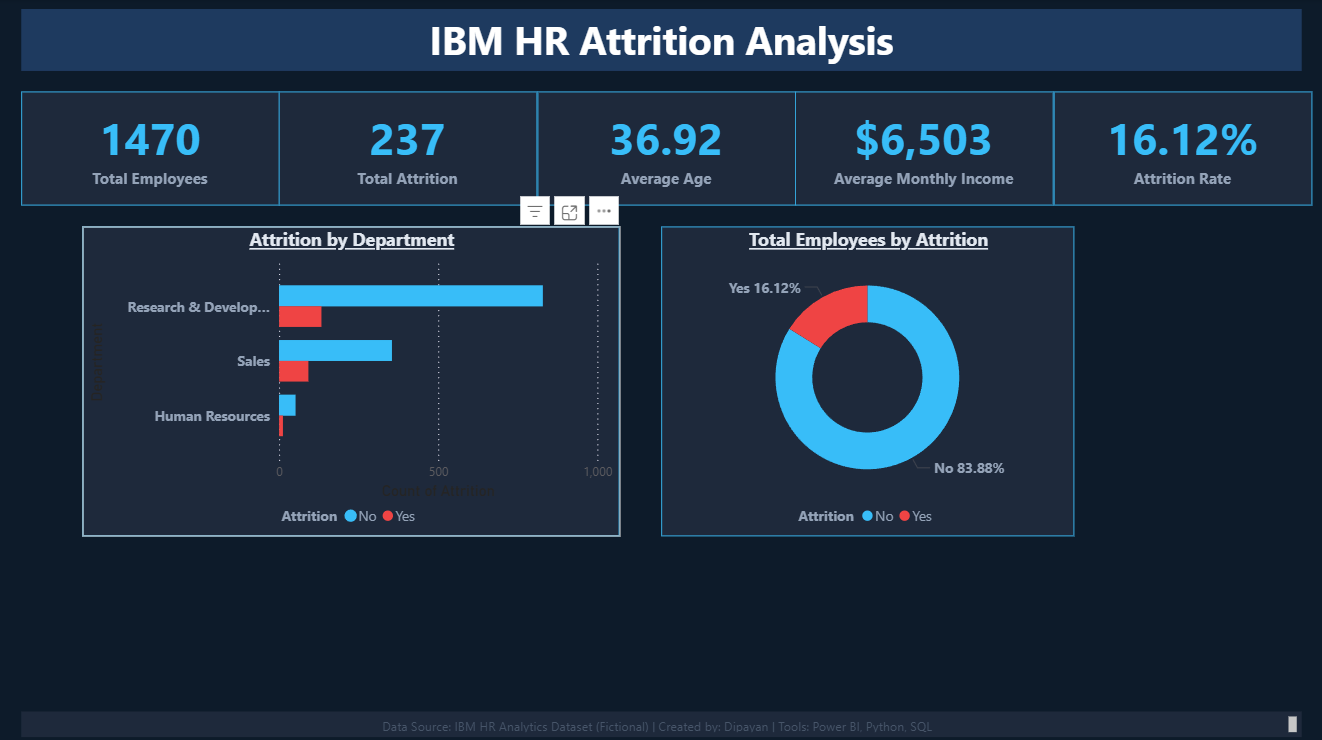

Layout of this report page (visuals, bound fields, positions):
{"tool":"powerbi","page":{"name":"Overview","canvas":[1280,720],"ordinal":0},"visuals":[{"type":"card","fields":{"Values":["_Measures.Total Employees"]},"box":[20,90,250,110],"z":0},{"type":"card","fields":{"Values":["_Measures.Total Attrition"]},"box":[270,90,250,110],"z":1000},{"type":"card","fields":{"Values":["_Measures.Attrition Rate"]},"box":[1020,90,250,110],"z":2000},{"type":"card","fields":{"Values":["_Measures.Average Age"]},"box":[520,90,250,110],"z":3000},{"type":"card","fields":{"Values":["_Measures.Average Monthly Income"]},"box":[770,90,250,110],"z":4000},{"type":"textbox","box":[20,10,1240,60],"z":5000},{"type":"donutChart","fields":{"Category":["HR_Data.Attrition"],"Y":["_Measures.Total Employees"]},"box":[640,220,400,300],"z":6000},{"type":"clusteredBarChart","title":"Attrition by Department","fields":{"Category":["HR_Data.Department"],"Y":["CountNonNull(HR_Data.Attrition)"],"Series":["HR_Data.Attrition"]},"box":[80,220,520,300],"z":7000},{"type":"textbox","box":[20,690,1240,25],"z":8000}]}

Visuals, with their boxes in screenshot pixels (x1, y1, x2, y2), scaled from the page's 1280x720 canvas onto the 1322x740 screenshot:
card - _Measures.Total Employees: x1=21, y1=92, x2=279, y2=206
card - _Measures.Total Attrition: x1=279, y1=92, x2=537, y2=206
card - _Measures.Attrition Rate: x1=1053, y1=92, x2=1312, y2=206
card - _Measures.Average Age: x1=537, y1=92, x2=795, y2=206
card - _Measures.Average Monthly Income: x1=795, y1=92, x2=1053, y2=206
textbox: x1=21, y1=10, x2=1301, y2=72
donutChart - HR_Data.Attrition x _Measures.Total Employees: x1=661, y1=226, x2=1074, y2=534
"Attrition by Department" clusteredBarChart: x1=83, y1=226, x2=620, y2=534
textbox: x1=21, y1=709, x2=1301, y2=735
